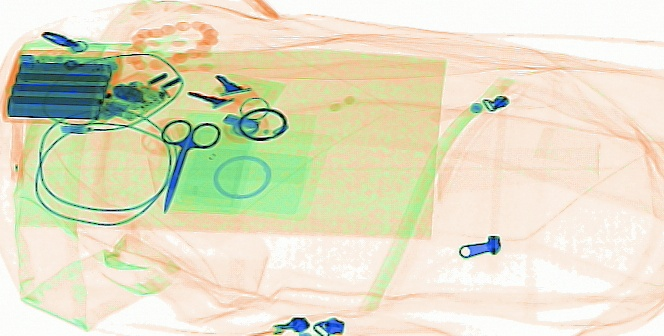powerbank: (2, 49, 118, 124)
scissors: (159, 119, 220, 215)
